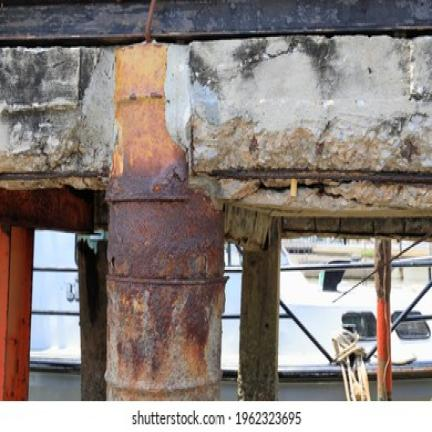karat: (111, 167, 225, 282)
